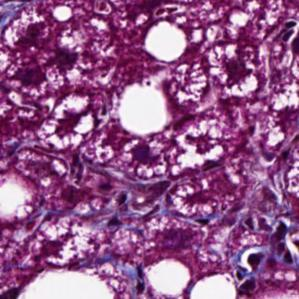inflammation: (9, 49, 83, 100), (242, 217, 297, 273), (34, 107, 98, 152)
